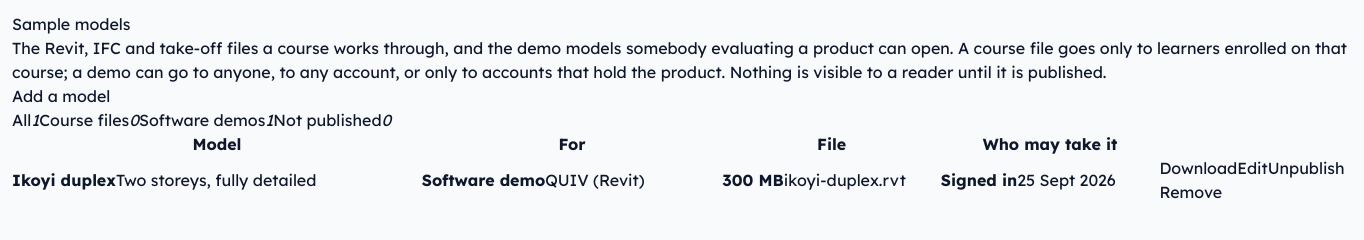
the library › says the stored file was left behind, because the server leaves it
The width and height of the screenshot is (1364, 240).
Click the button "Remove".
click(1191, 192)  # box top-left (1159, 180), bottom-right (1222, 204)
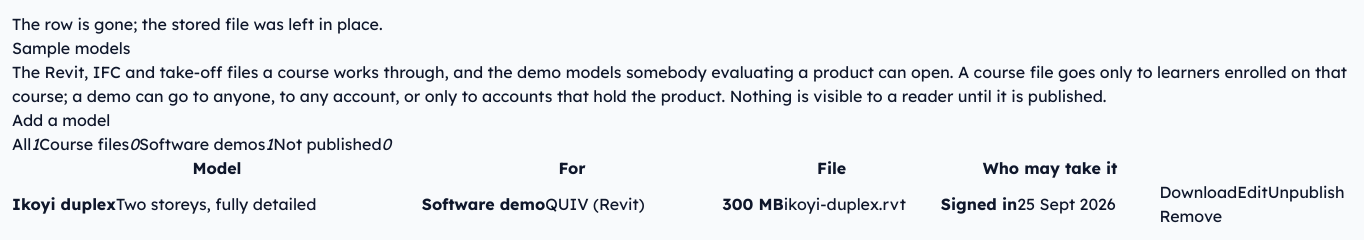
Now the text "The row is gone; the stored file was left in place." is shown, box top-left (12, 14), bottom-right (383, 34)
